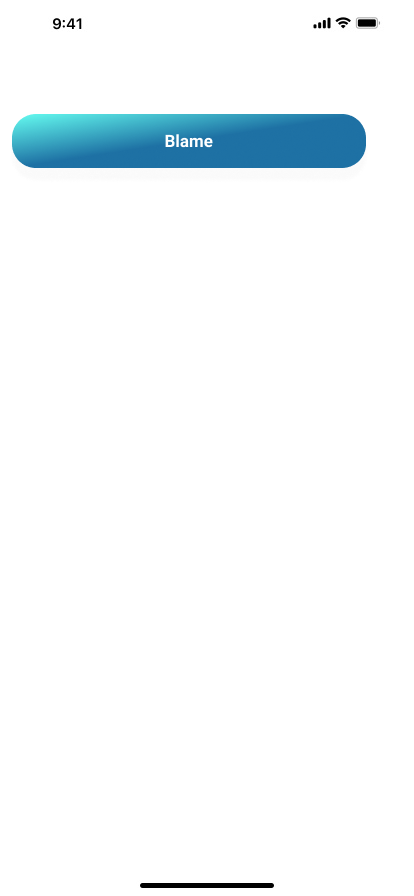Buttons: (8, 114, 374, 184)
Home Indicator: (0, 862, 414, 896)
Status Bar: (0, 0, 414, 44)
